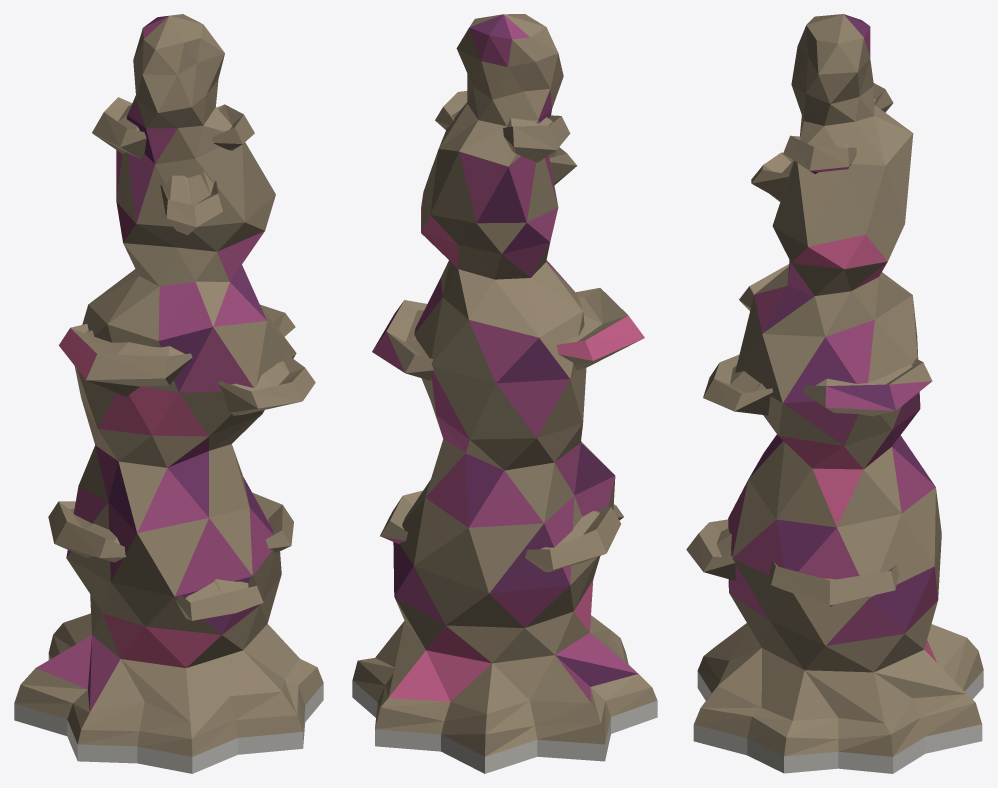
File: rock-bommie-column-0f8a9b.glb
3 views of the same model, side by side, from view 1: azimuth 30°, elevation 25°; view 2: azimuth 150°, elevation 25°; view 3: azimuth 270°, elevation 25° (orthographic).
Parts seen in each view (by area): view 1: rock-bommie; view 2: rock-bommie; view 3: rock-bommie.
Boxes of the visible parts, box(x1,y1,x2,y2) form: rock-bommie: box(14, 14, 323, 773); rock-bommie: box(352, 14, 657, 773); rock-bommie: box(686, 14, 983, 773).
Bounding box in the file's own units: 0.1725 × 0.45 × 0.1739.
